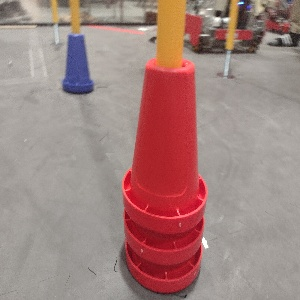Blue_1: (60, 31, 94, 93)
Red_3: (120, 53, 208, 295)
